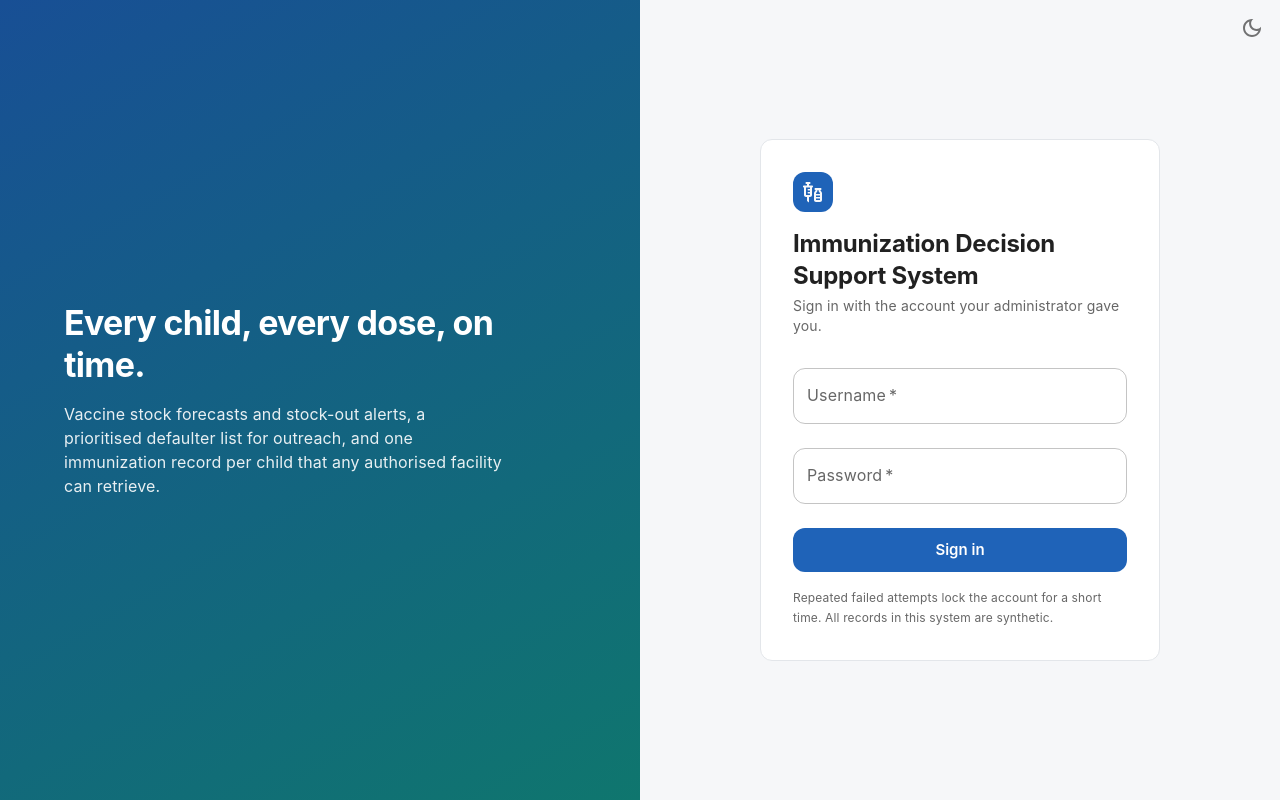
Test: a refused login shows the server's generic message
This screenshot has width=1280, height=800.
Type "x" into the field labelled "Username *" at {"x": 960, "y": 396}, box [793, 368, 1127, 424]
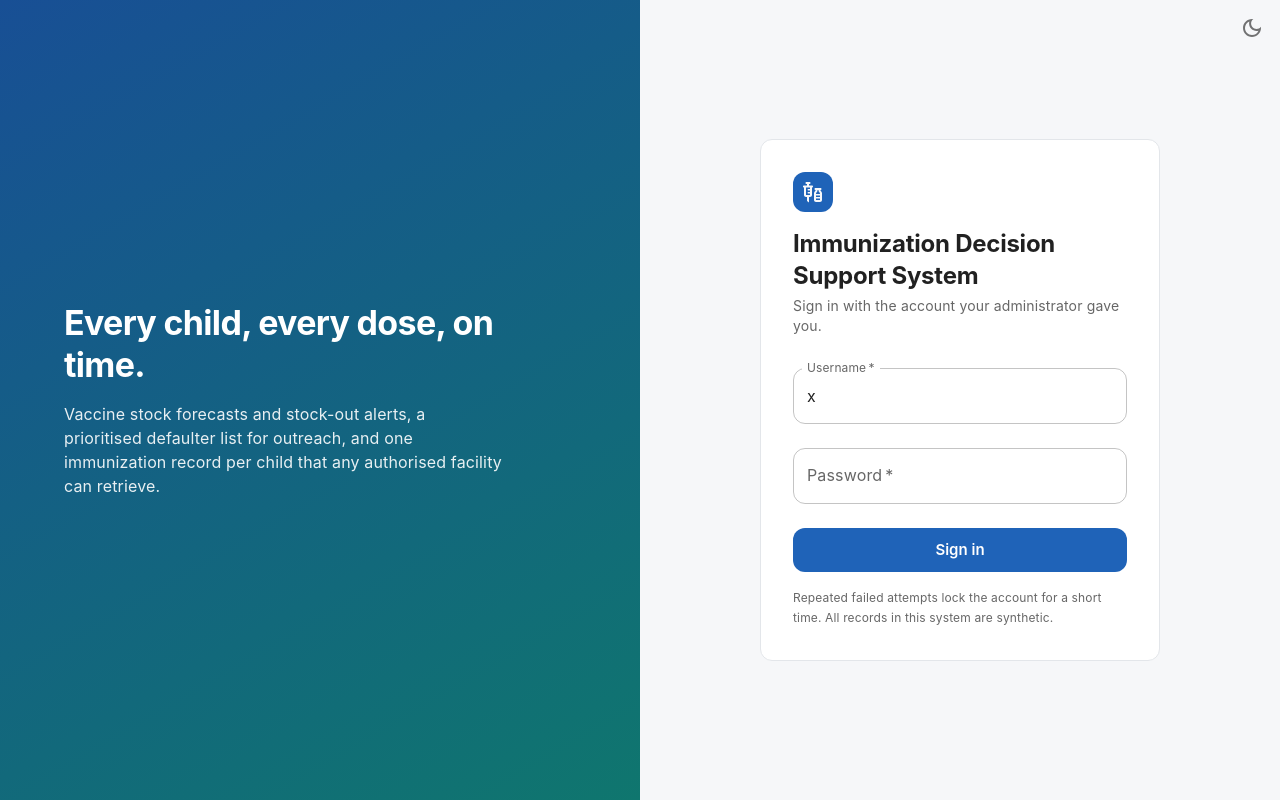
Type "y" into the password field labelled "Password *" at {"x": 960, "y": 476}, box [793, 448, 1127, 504]
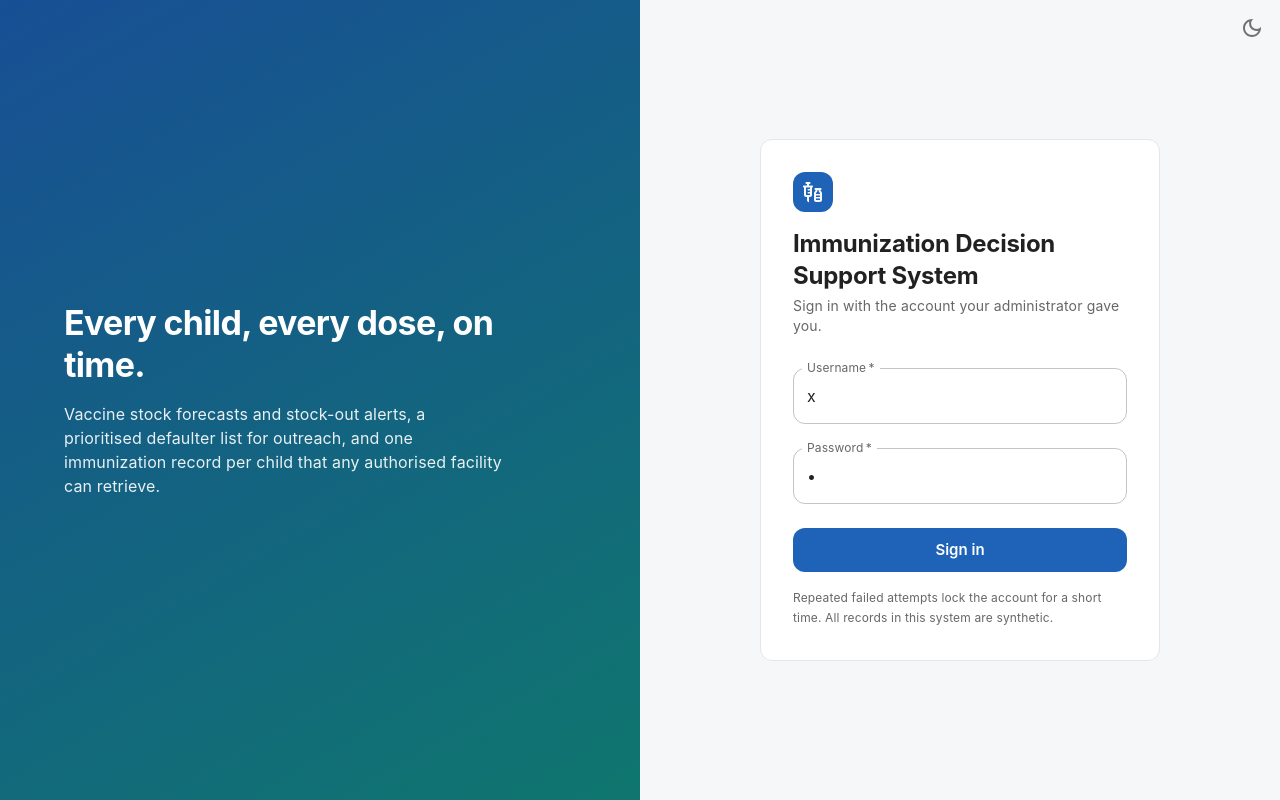
Click the button "Sign in" at {"x": 960, "y": 550}, box [793, 528, 1127, 572]
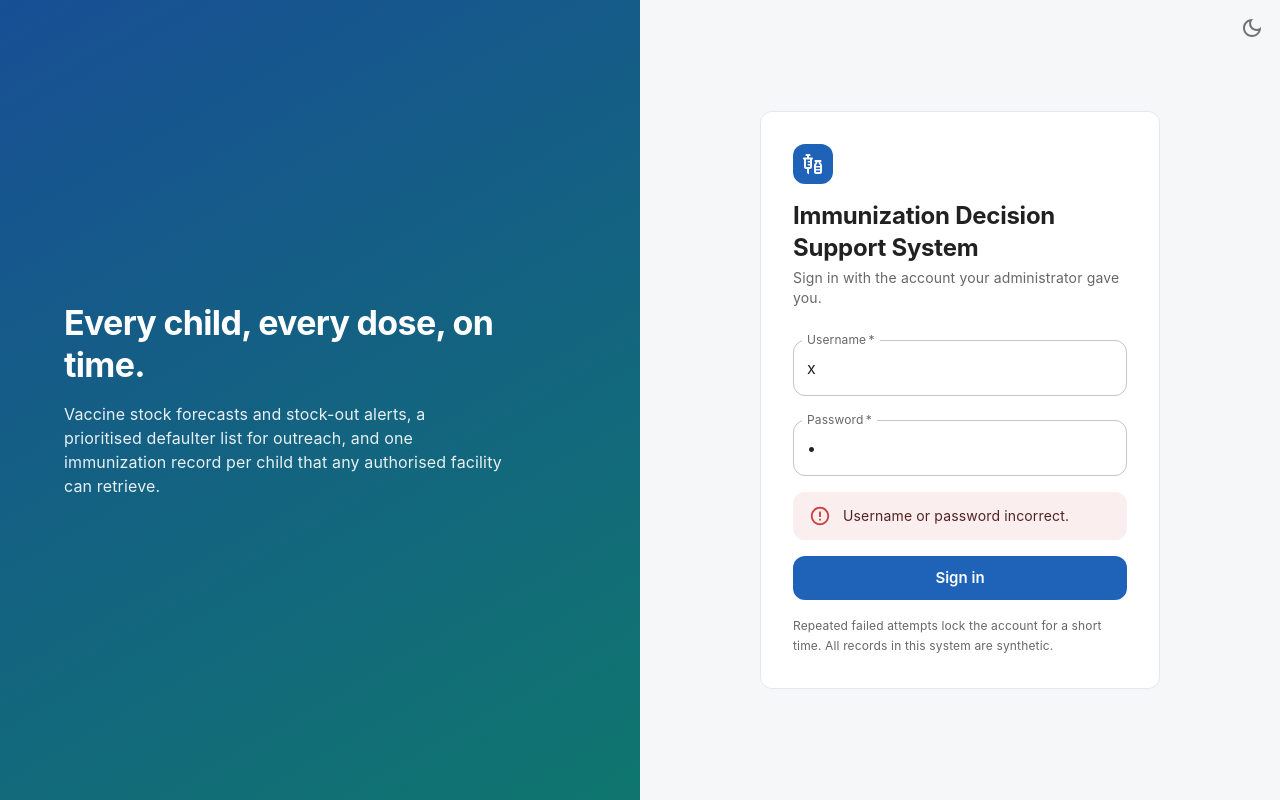
Expected: the text "Username or password incorrect." is shown, [843, 507, 1069, 524]
